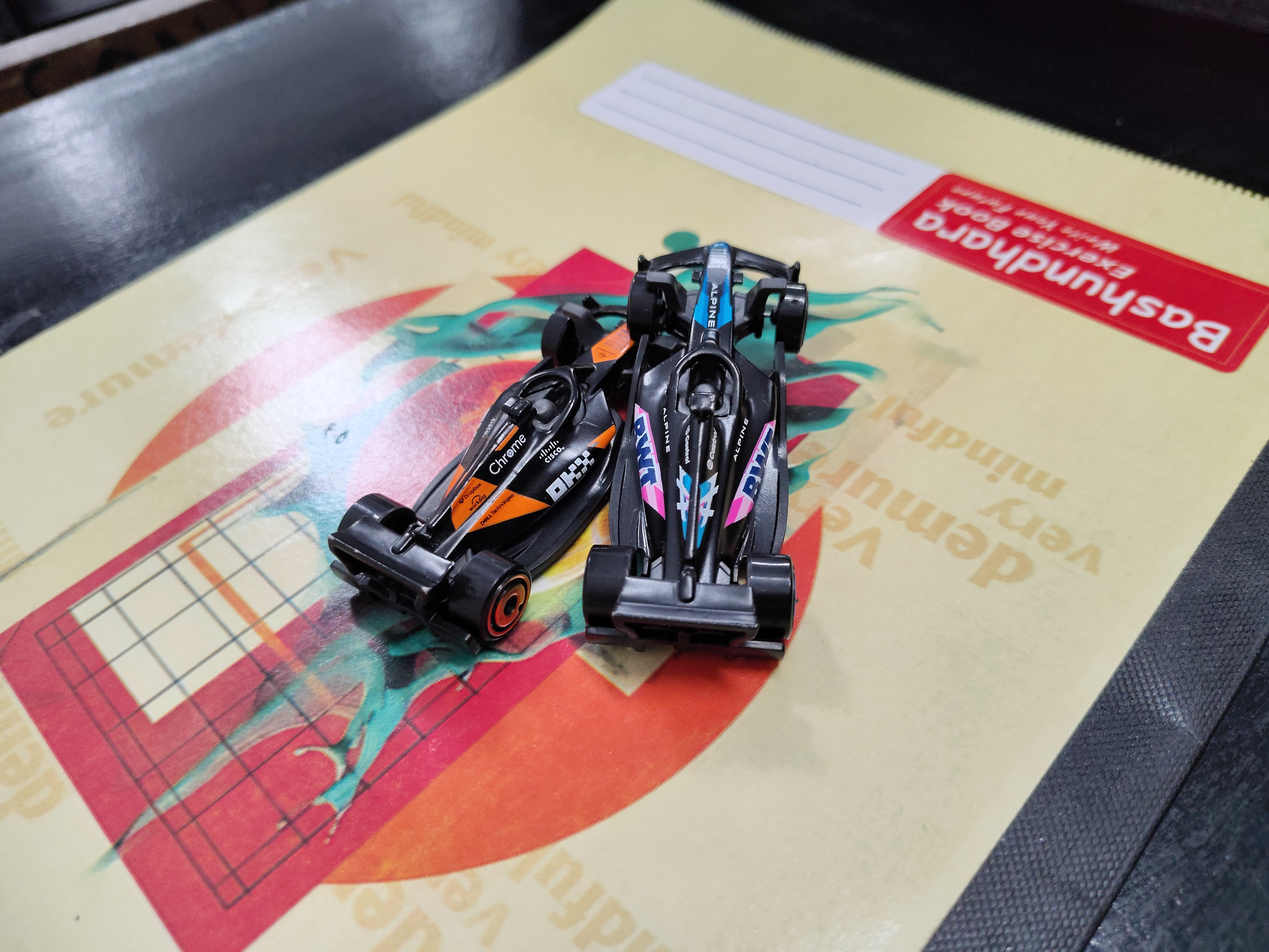Alpine A524: (579, 197, 813, 676)
McLaren MCL40: (322, 242, 615, 617)
